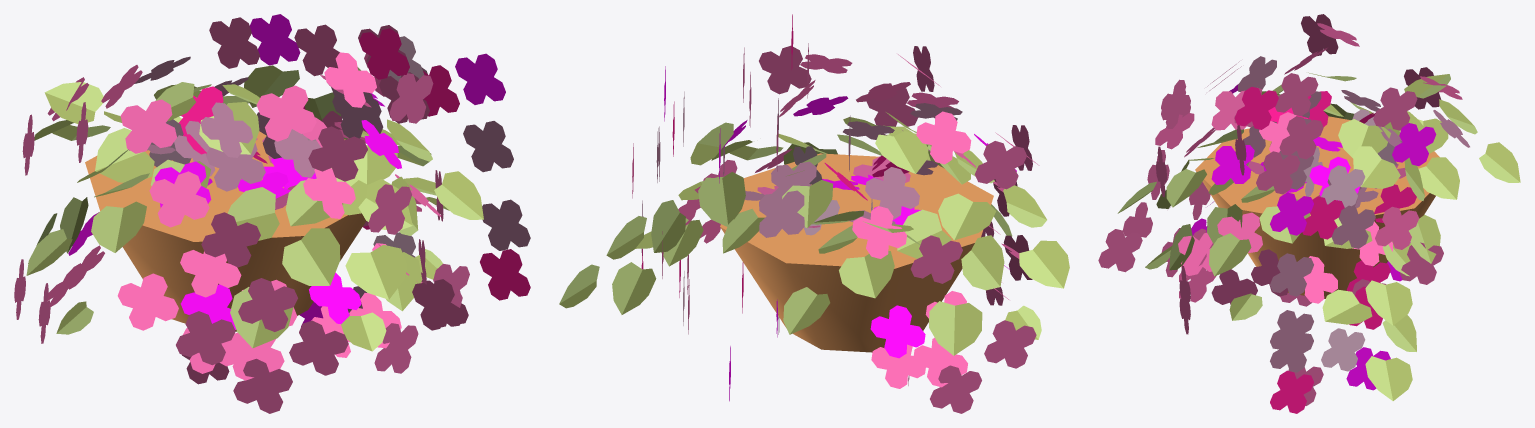
The model's file is pinkhangingplants.fbx.
3 renders of one model, left to right at view 1: azimuth 30°, elevation 25°; view 2: azimuth 150°, elevation 25°; view 3: azimuth 270°, elevation 25°, orthographic. The views are drawn at different scales.
Visible parts, largest first — view 1: FlowerPot_2_1, working_leaf28, working_leaf23, working_leaf6, working_leaf35, working_leaf27, working_leaf7, working_leaf4, working_leaf26, working_leaf19, working_leaf29, working_leaf24 (+60 smaller); view 2: FlowerPot_2_1, working_leaf36, working_leaf19, working_leaf34, working_leaf3, working_leaf33, working_leaf38, working_leaf42, working_leaf31, working_leaf1, working_leaf17, working_leaf37 (+10 smaller); view 3: FlowerPot_2_1, working_leaf14, working_leaf40, working_leaf18, working_leaf20, working_leaf41, working_leaf21, working_leaf7, working_leaf1, working_leaf17, working_leaf25, working_leaf42 (+9 smaller).
Boxes of the visible parts, x1,y1,x2,y2 form: FlowerPot_2_1: [85, 131, 366, 331]; working_leaf28: [282, 228, 340, 285]; working_leaf23: [345, 245, 407, 299]; working_leaf6: [95, 128, 154, 182]; working_leaf35: [91, 201, 146, 252]; working_leaf27: [227, 187, 279, 240]; working_leaf7: [434, 171, 483, 219]; working_leaf4: [44, 82, 103, 123]; working_leaf26: [230, 287, 293, 348]; working_leaf19: [244, 65, 299, 107]; working_leaf29: [341, 312, 386, 351]; working_leaf24: [285, 178, 343, 226]; FlowerPot_2_1: [720, 153, 993, 352]; working_leaf36: [929, 301, 982, 355]; working_leaf19: [698, 172, 745, 226]; working_leaf34: [938, 193, 996, 240]; working_leaf3: [839, 251, 894, 298]; working_leaf33: [1019, 240, 1069, 288]; working_leaf38: [961, 235, 1004, 290]; working_leaf42: [612, 262, 656, 314]; working_leaf31: [875, 131, 928, 173]; working_leaf1: [783, 287, 830, 334]; working_leaf17: [651, 200, 685, 252]; working_leaf37: [897, 209, 951, 258]; FlowerPot_2_1: [1195, 116, 1439, 298]; working_leaf14: [1365, 280, 1412, 325]; working_leaf40: [1365, 356, 1412, 400]; working_leaf18: [1353, 146, 1400, 188]; working_leaf20: [1418, 157, 1459, 199]; working_leaf41: [1322, 289, 1372, 324]; working_leaf21: [1338, 119, 1390, 157]; working_leaf7: [1209, 233, 1251, 276]; working_leaf1: [1479, 142, 1520, 182]; working_leaf17: [1409, 214, 1440, 263]; working_leaf25: [1166, 169, 1206, 207]; working_leaf42: [1382, 314, 1416, 351].
Bounding box in the file's own units: 22.4 × 15.72 × 19.68.
